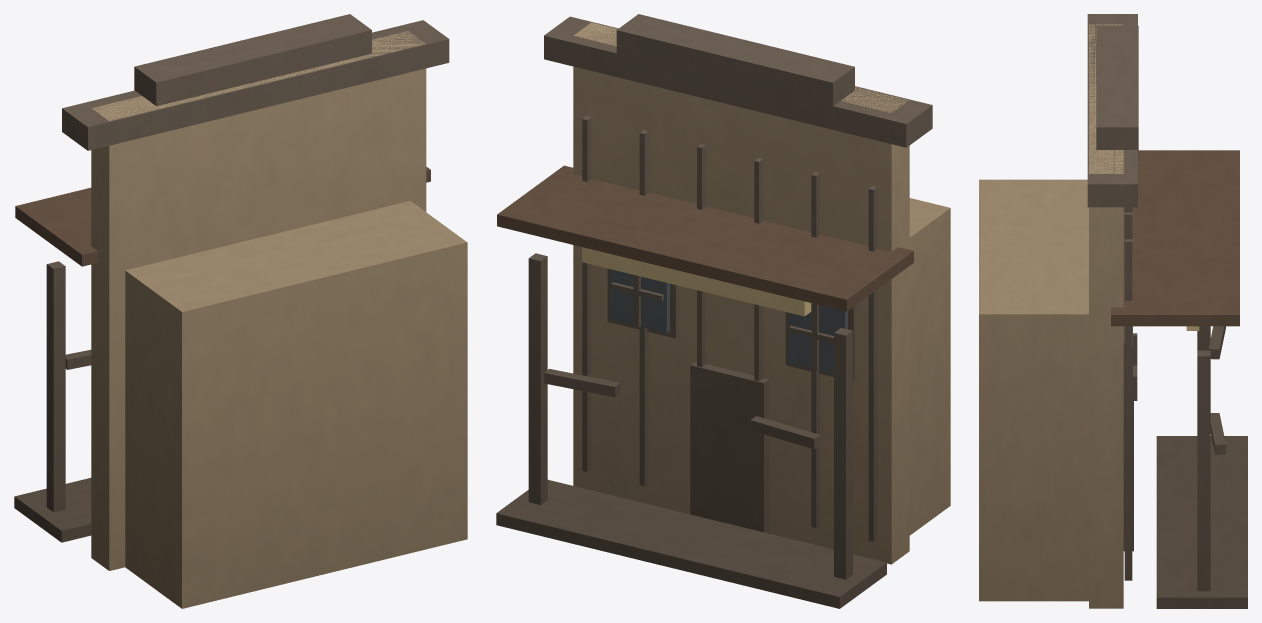
File: hero_town_saloon.glb
3 renders of one model, left to right at view 1: azimuth 30°, elevation 25°; view 2: azimuth 150°, elevation 25°; view 3: azimuth 270°, elevation 25°, orthographic. The views are drawn at different scales.
Parts seen in each view (by area): view 1: hero_town_saloon; view 2: hero_town_saloon; view 3: hero_town_saloon.
Boxes of the visible parts, x1,y1,x2,y2 form: hero_town_saloon: (14,14,467,608); hero_town_saloon: (496,14,950,608); hero_town_saloon: (979,14,1247,608).
Size of the model in its own units: 2.57 by 3.21 by 1.71.
1 material, 1 textured.
